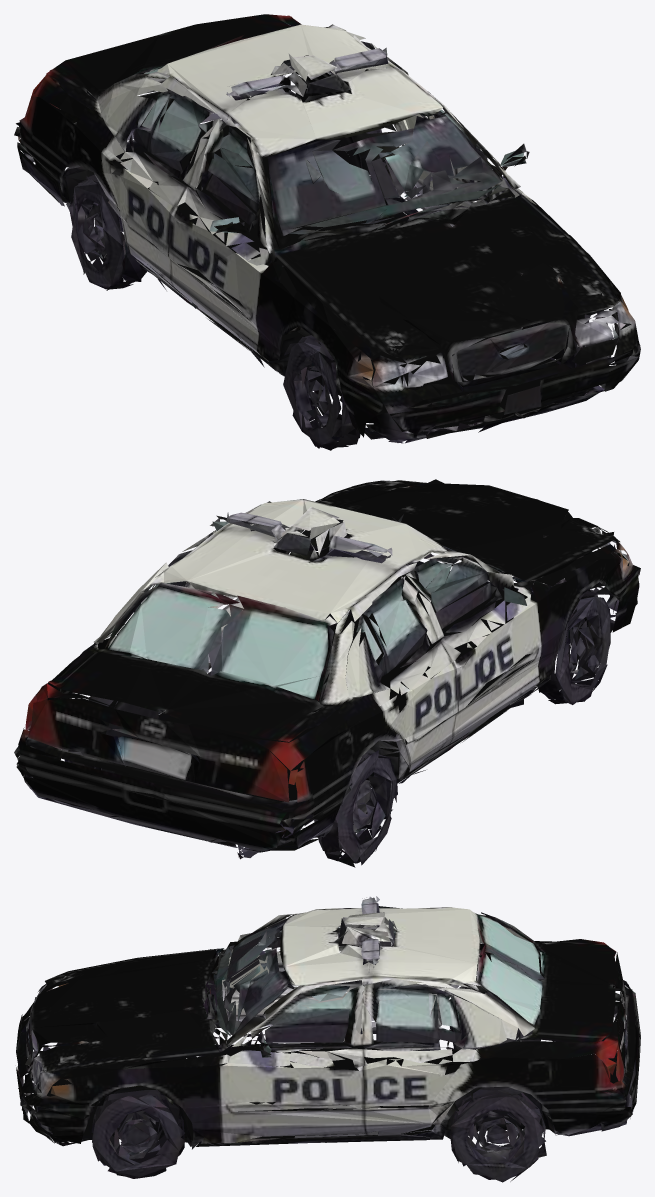
The model's file is police_car.glb.
3 views of the same model, one above another, from view 1: azimuth 30°, elevation 25°; view 2: azimuth 150°, elevation 25°; view 3: azimuth 270°, elevation 25° (orthographic). The views are drawn at different scales.
Parts seen in each view (by area): view 1: world; view 2: world; view 3: world.
Part boxes in pixels (x1,y1,x2,y2): world: (14,14,640,450); world: (14,479,640,867); world: (16,896,640,1182).
Size of the model in its own units: 0.9674 by 0.7427 by 2.
1 material, 1 textured.
